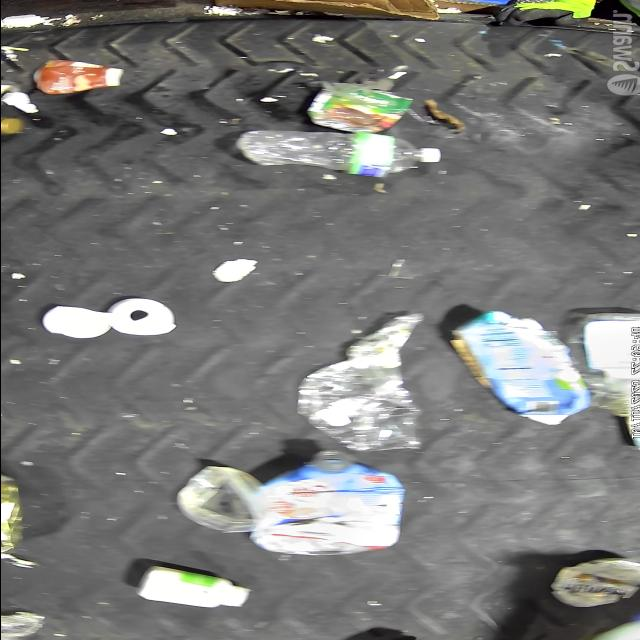can: (302, 84, 412, 135)
non_white_jug: (448, 310, 588, 426)
plastic_bottle: (296, 350, 424, 450), (234, 128, 440, 174), (342, 312, 422, 364)
